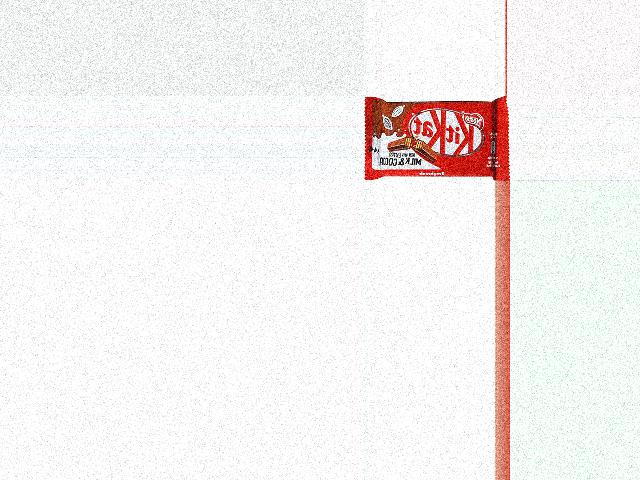chocolate: (363, 96, 508, 181)
